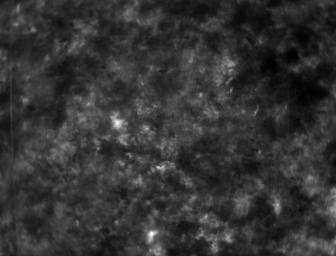landmine: (110, 115, 125, 131)
